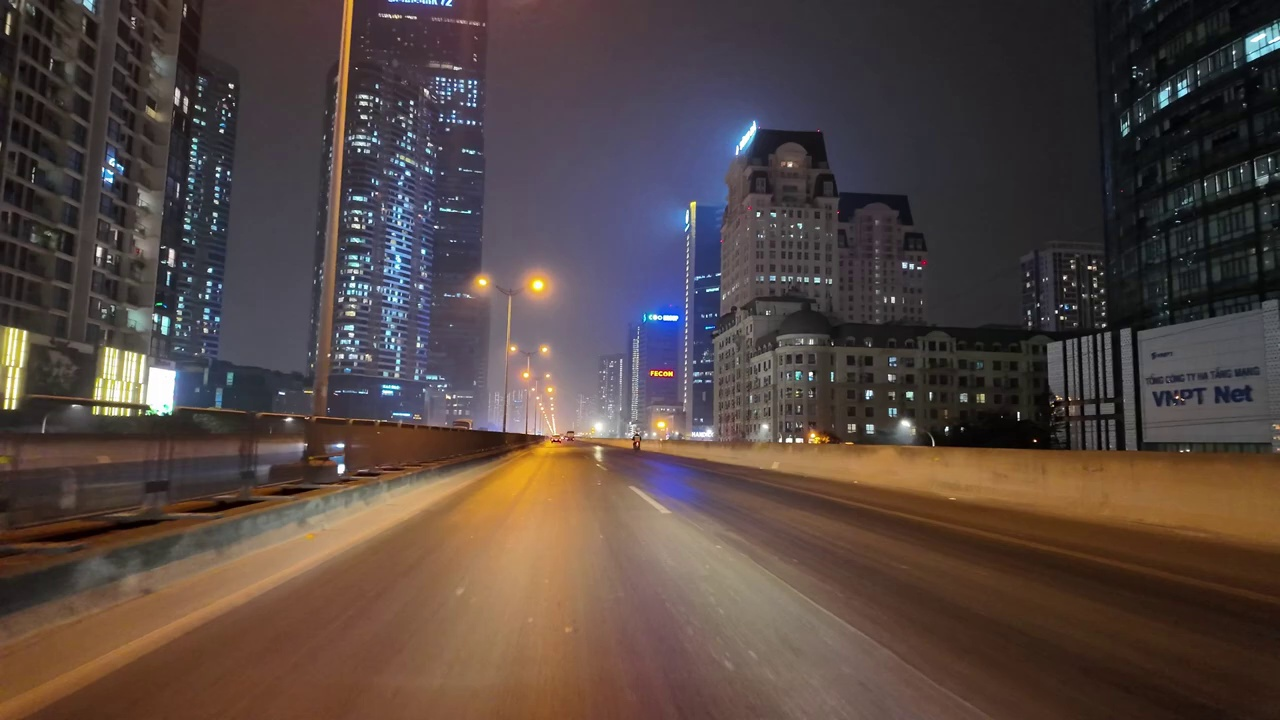acesa: (523, 271, 553, 299), (468, 271, 493, 297), (734, 123, 756, 151)
